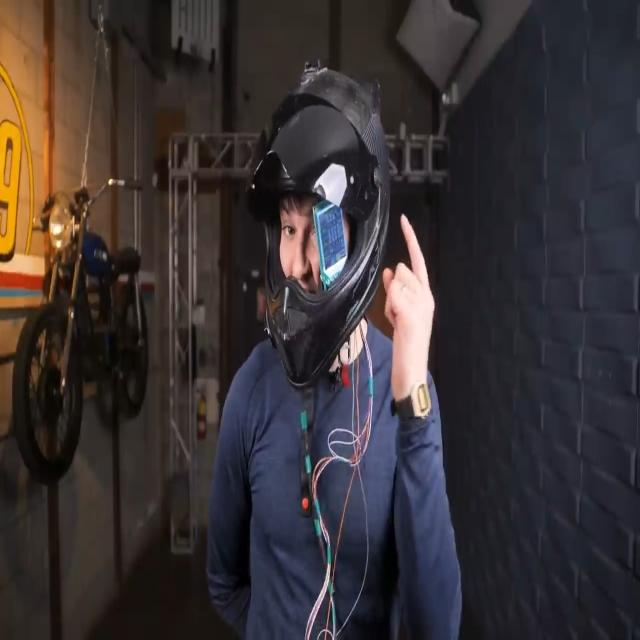Helmet_Wearer: (247, 63, 391, 379)
Person: (199, 57, 467, 640)
